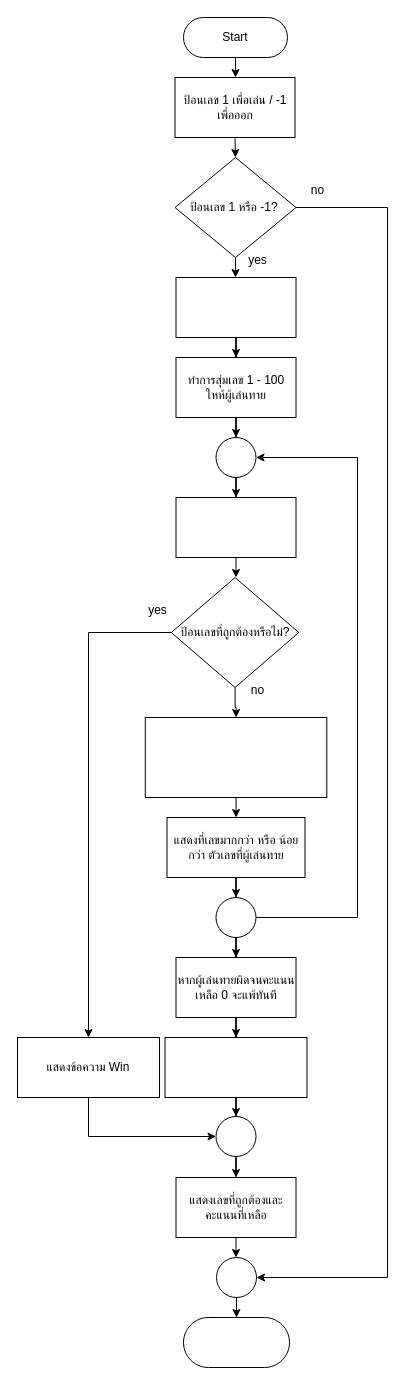
This 413x1385 diagram has some shape labels left out. Here are the shapes that lost their labels. From the top down, the centre of each, then its label:
At pixel 235 307: "มอบให้ผู้เล่น 100".
At pixel 235 527: "ให้ผู้เล่นป้อนเลขที่ถูกต้อง".
At pixel 235 757: "หากทายผิด ลบคะแนนของผู้เล่น 10 และแจ้งคะแนนปัจจุบันให้ผู้เล่นทราบ".
At pixel 235 1067: "แสดงข้อความ Game over".
At pixel 236 1342: "END".
